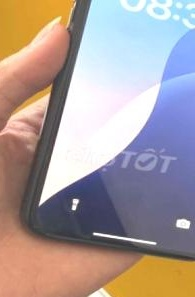scratch: (29, 217, 48, 235)
